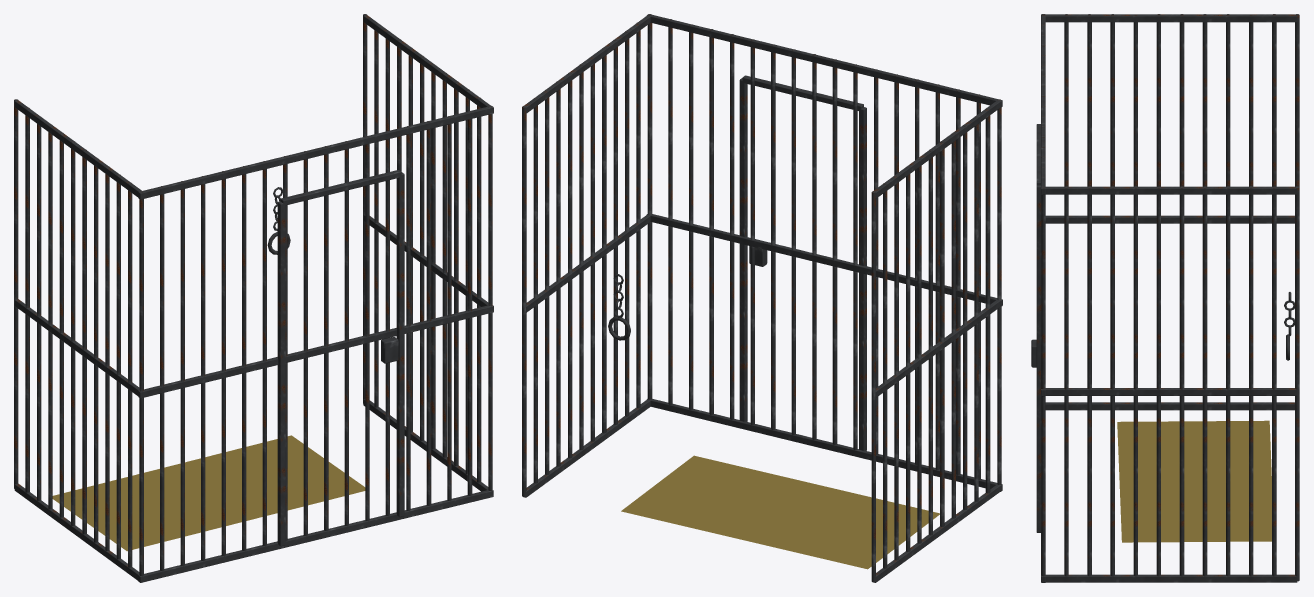
File: cellBars.glb
3 views of the same model, side by side, from view 1: azimuth 30°, elevation 25°; view 2: azimuth 150°, elevation 25°; view 3: azimuth 270°, elevation 25° (orthographic).
Visible parts, largest first — view 1: cellBars; view 2: cellBars; view 3: cellBars.
Boxes of the visible parts, x1,y1,x2,y2 form: cellBars: (14,14,493,582); cellBars: (522,14,1002,582); cellBars: (1031,14,1299,582).
Bounding box in the file's own units: 2.23 × 2.36 × 1.45.
2 materials, 1 textured.
